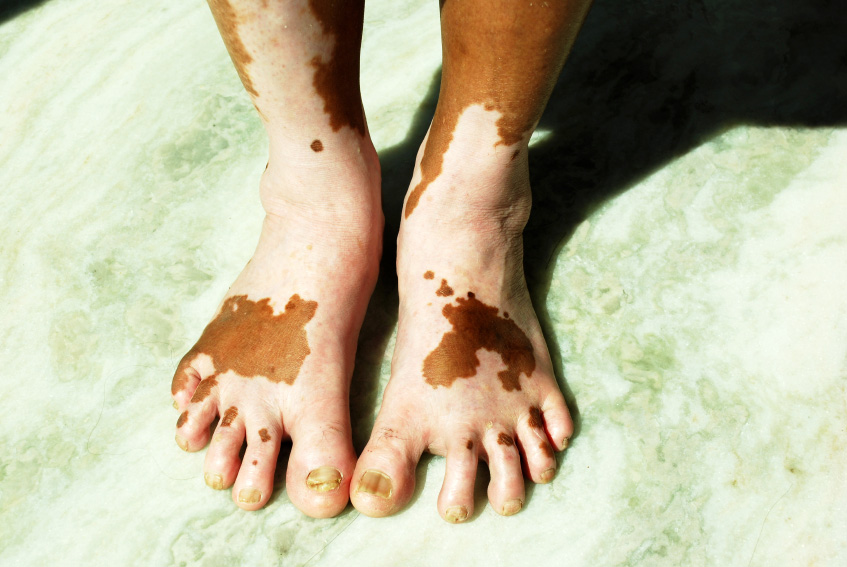vitiligo: (250, 103, 543, 475)
